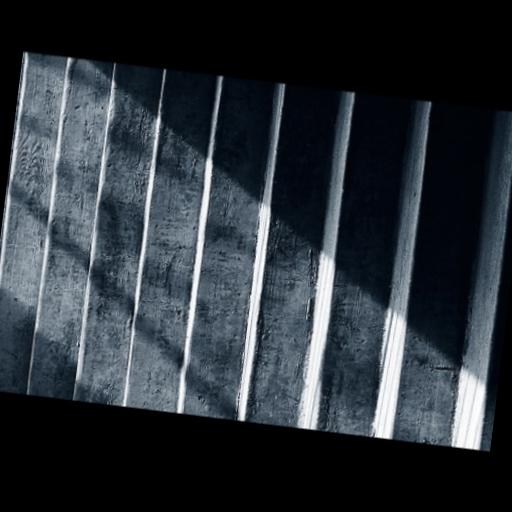stairs: (0, 53, 511, 449)
